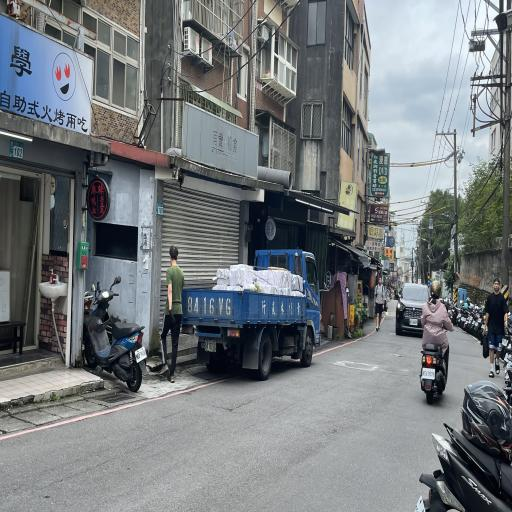MIU: (176, 323, 268, 402), (296, 318, 334, 370)
car: (172, 236, 324, 387), (390, 275, 436, 337)
redline: (0, 363, 225, 448), (309, 296, 387, 362)
